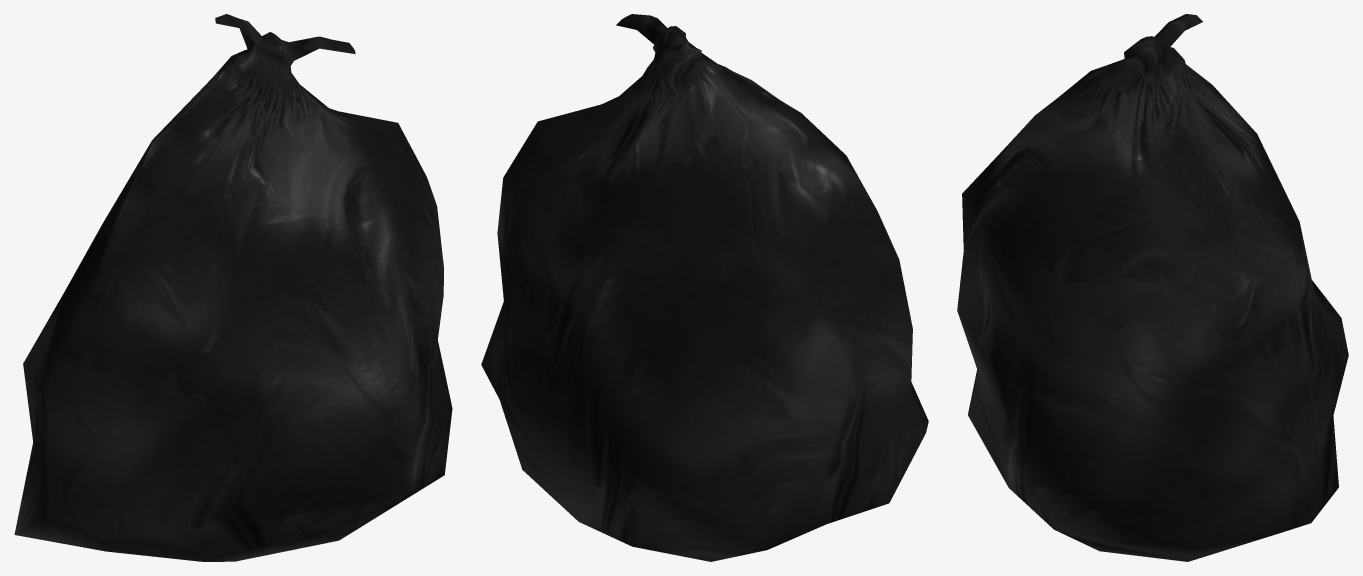
The model's file is garbage_bag.obj.
3 views of the same model, side by side, from view 1: azimuth 30°, elevation 25°; view 2: azimuth 150°, elevation 25°; view 3: azimuth 270°, elevation 25° (orthographic). The views are drawn at different scales.
Visible parts, largest first — view 1: Garbage_Bag_obj; view 2: Garbage_Bag_obj; view 3: Garbage_Bag_obj.
Part boxes in pixels (x1=…): Garbage_Bag_obj: x1=14, y1=14, x2=452, y2=561; Garbage_Bag_obj: x1=481, y1=14, x2=928, y2=561; Garbage_Bag_obj: x1=957, y1=14, x2=1348, y2=561.
Size of the model in its own units: 52.33 by 62.32 by 42.15.
1 material, 1 textured.
